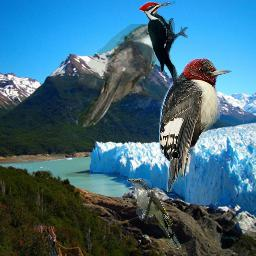Cuckoo: (76, 24, 167, 130), (127, 178, 181, 249)
Woodpecker: (159, 58, 232, 192), (139, 0, 188, 84)
